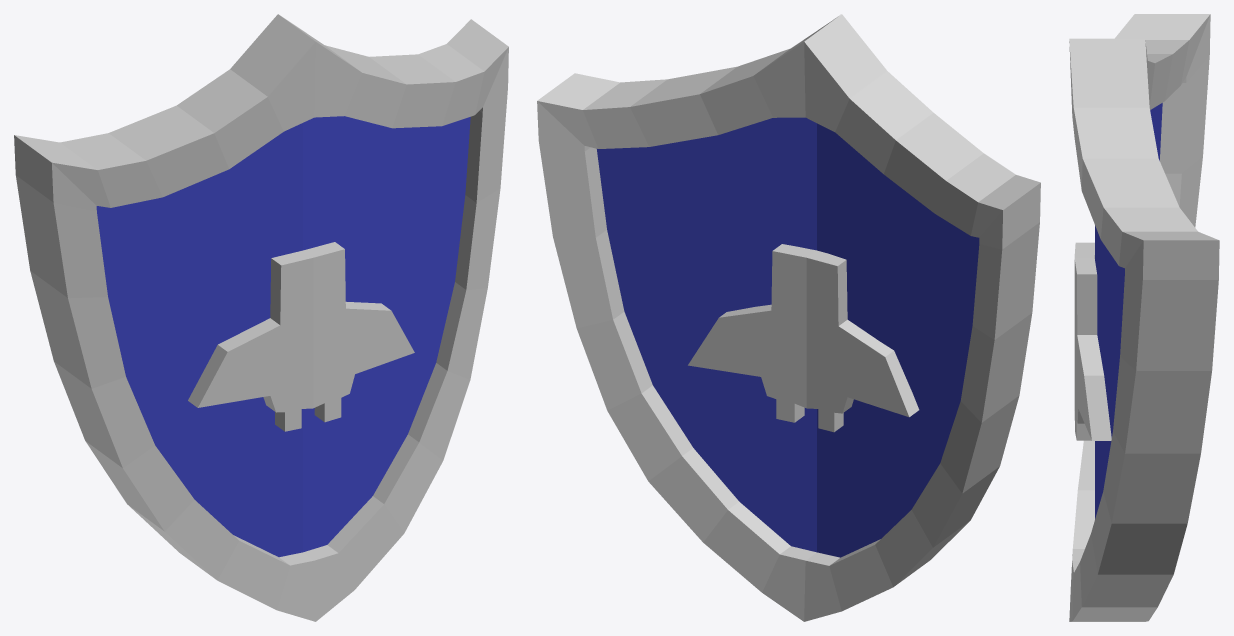
File: shield.glb
3 renders of one model, left to right at view 1: azimuth 30°, elevation 25°; view 2: azimuth 150°, elevation 25°; view 3: azimuth 270°, elevation 25°, orthographic.
Visible parts, largest first — view 1: Plane; view 2: Plane; view 3: Plane.
Part boxes in pixels (x1,y1,x2,y2): Plane: [14, 14, 508, 621]; Plane: [537, 14, 1040, 621]; Plane: [1069, 14, 1219, 621].
Bounding box in the file's own units: 4.12 × 4.95 × 1.16.
Materials: 1 (1 with a texture image).
